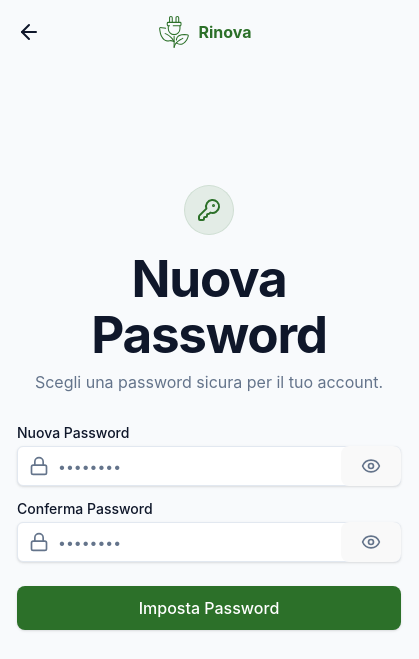
Test: NewPasswordForm › shows error when passwords do not match
The width and height of the screenshot is (419, 659).
Type "Password123!" into the password field labelled "Nuova Password" at {"x": 209, "y": 466}, box [17,446,401,486]
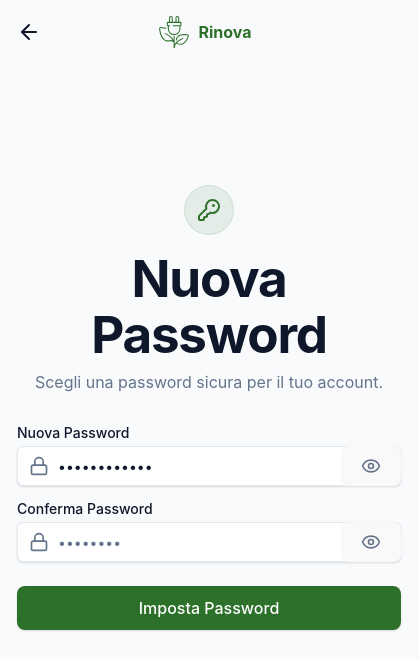
Type "DifferentPass!" into the password field labelled "Conferma Password" at {"x": 209, "y": 542}, box [17,522,401,562]
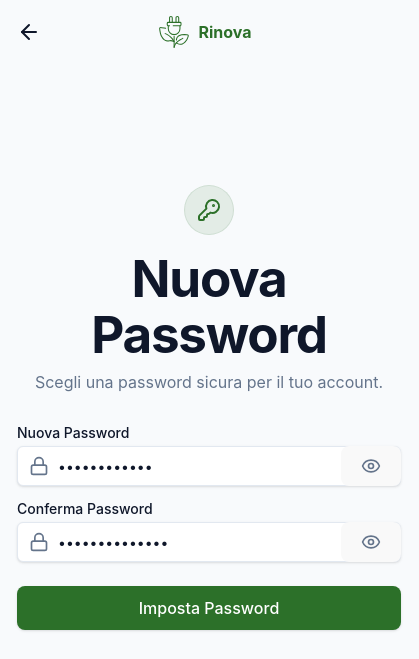
Click the button "Imposta Password" at {"x": 209, "y": 608}, box [17,586,401,630]
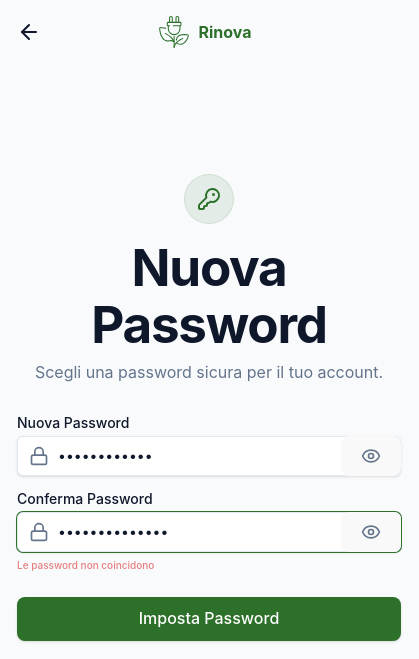
expect the text "Le password non coincidono" is shown: met, box [17,559,154,571]
